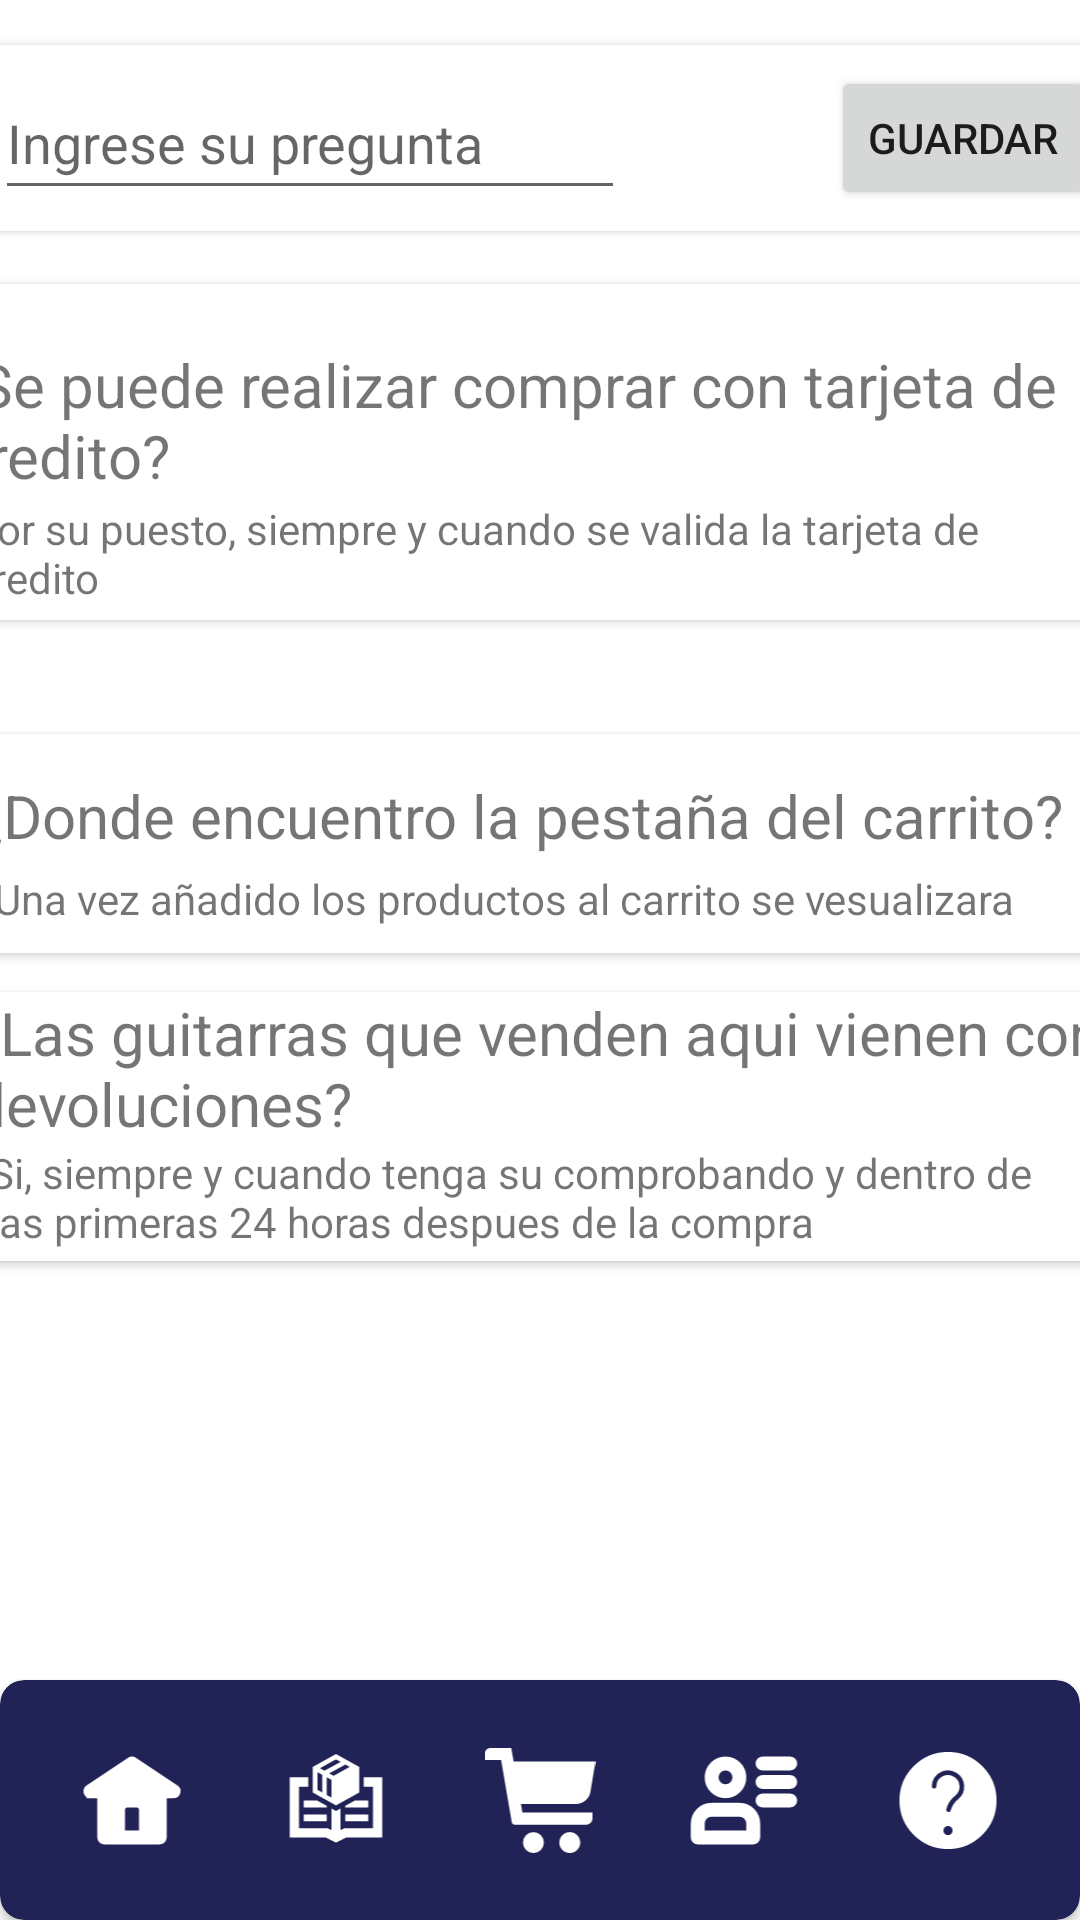

Point at icon controls on the screen. Image size 1080 x 1920, points as point (x, y).
carrito: point (540, 1800)
faq: point (948, 1800)
inicio: point (132, 1800)
producto: point (336, 1798)
user: point (744, 1800)
